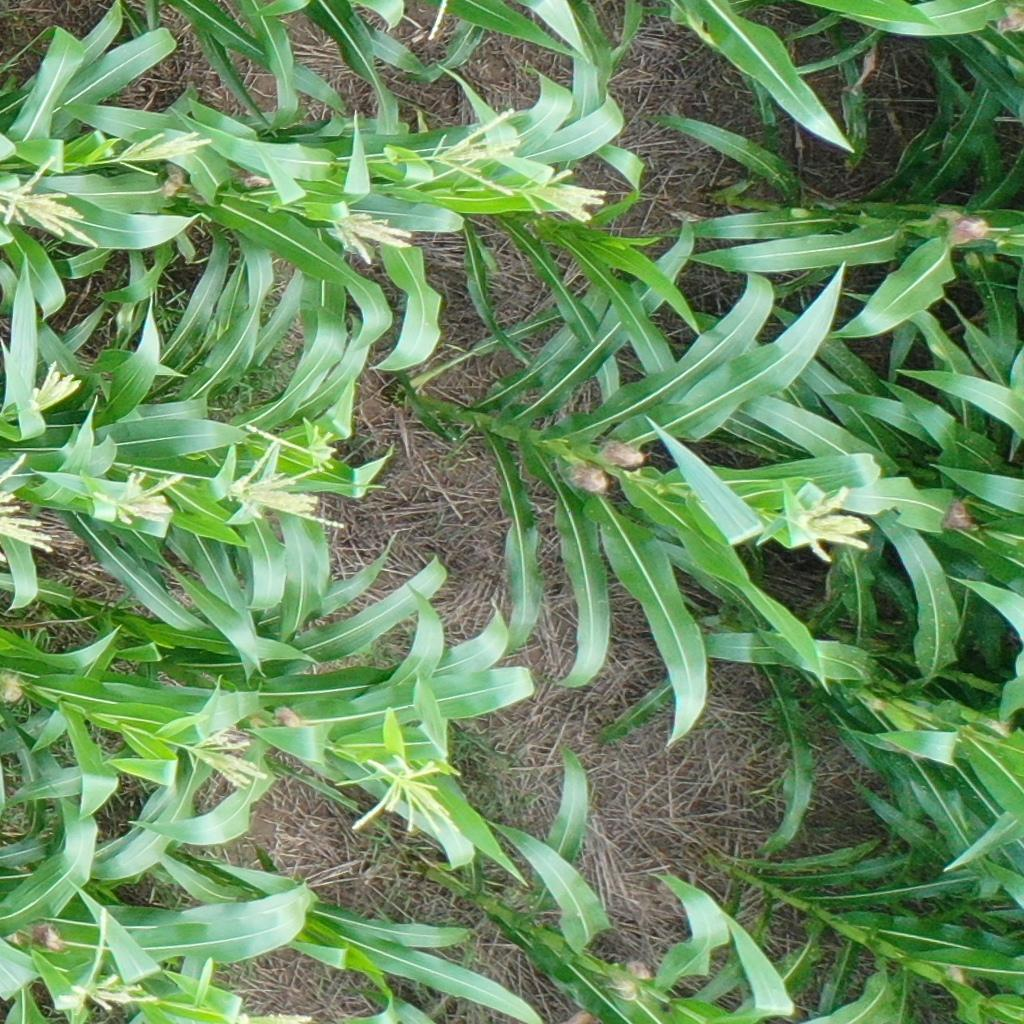Tassel: (225, 443, 347, 538), (59, 904, 159, 1013), (349, 753, 470, 840), (1, 155, 99, 247), (432, 103, 523, 192), (787, 479, 871, 566), (94, 463, 186, 534), (1, 454, 56, 568), (515, 164, 613, 227), (243, 409, 337, 474), (186, 725, 271, 796), (331, 206, 415, 265), (114, 131, 212, 177), (27, 362, 84, 417), (235, 1012, 310, 1024)
